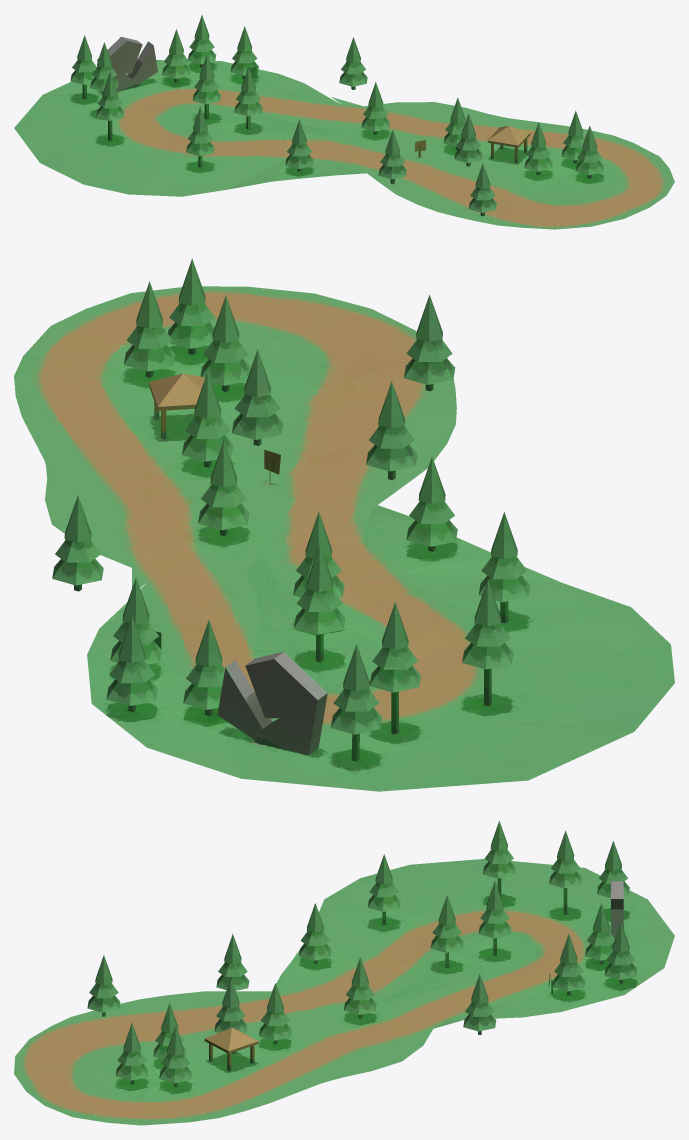
The model's file is track.glb.
The picture shows the model from 3 angles, top to bottom: view 1: azimuth 30°, elevation 25°; view 2: azimuth 150°, elevation 25°; view 3: azimuth 270°, elevation 25°; orthographic projection. The views are drawn at different scales.
Parts seen in each view (by area): view 1: Cube.002; view 2: Cube.002; view 3: Cube.002.
Boxes of the visible parts, <box> form: Cube.002: <box>14,15,674,229</box>; Cube.002: <box>14,258,674,791</box>; Cube.002: <box>14,821,674,1125</box>.
Size of the model in its own units: 6.6 by 1 by 6.9.
1 material, 1 textured.
